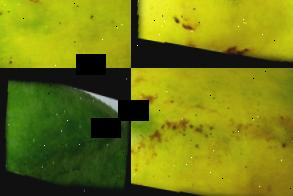Ripe: (131, 68, 293, 196), (131, 0, 293, 68), (0, 0, 131, 68)
Unripe: (0, 68, 131, 196)
